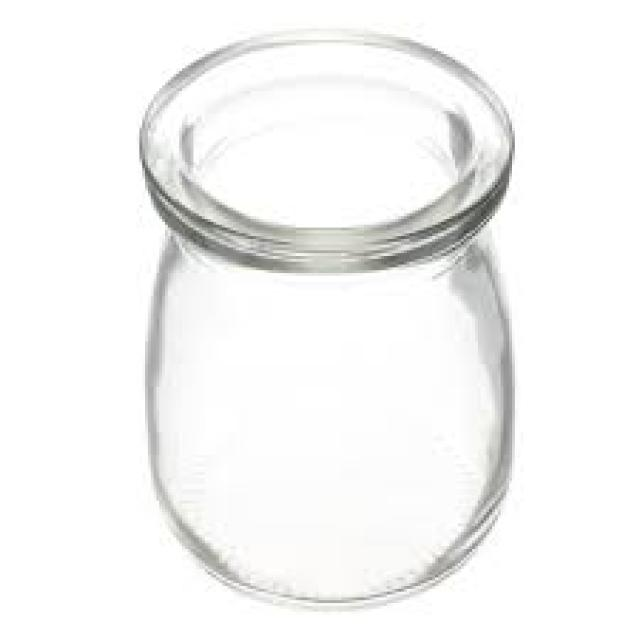glass: (137, 29, 512, 600)
